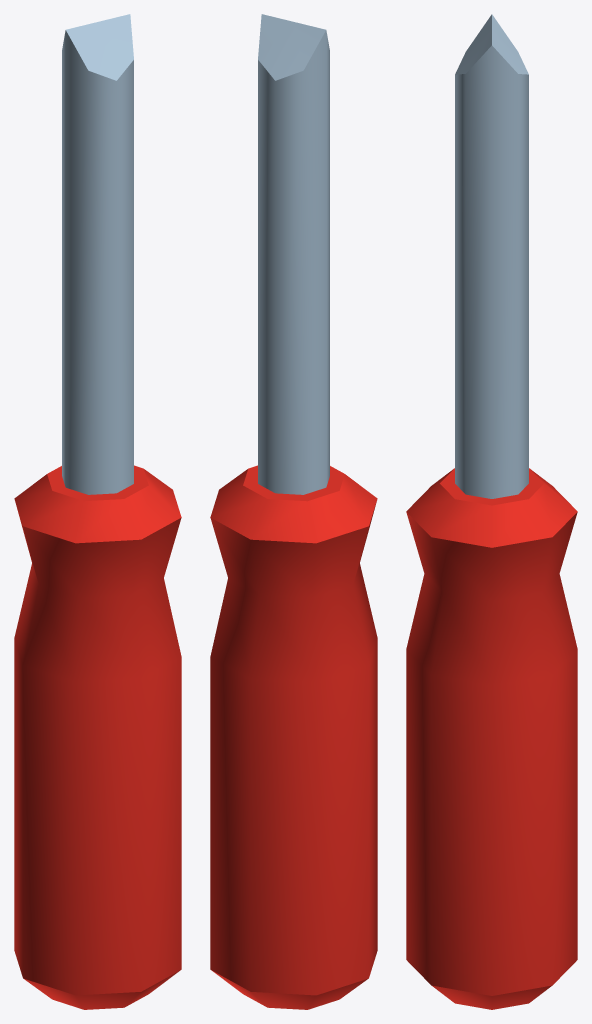
Rendered from Screw Driver.fbx.
3 renders of one model, left to right at view 1: azimuth 30°, elevation 25°; view 2: azimuth 150°, elevation 25°; view 3: azimuth 270°, elevation 25°, orthographic.
Visible parts, largest first — view 1: Screw Driver; view 2: Screw Driver; view 3: Screw Driver.
Boxes of the visible parts, box(x1,y1,x2,y2) form: Screw Driver: box(14, 14, 181, 1009); Screw Driver: box(210, 14, 377, 1009); Screw Driver: box(406, 14, 577, 1009).
Size of the model in its own units: 29.71 by 183 by 29.71.
